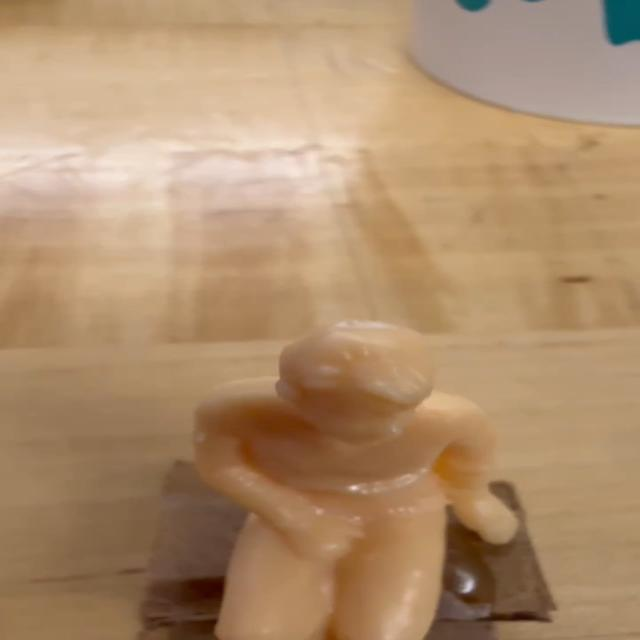Unauthorized: (59, 308, 573, 640)
